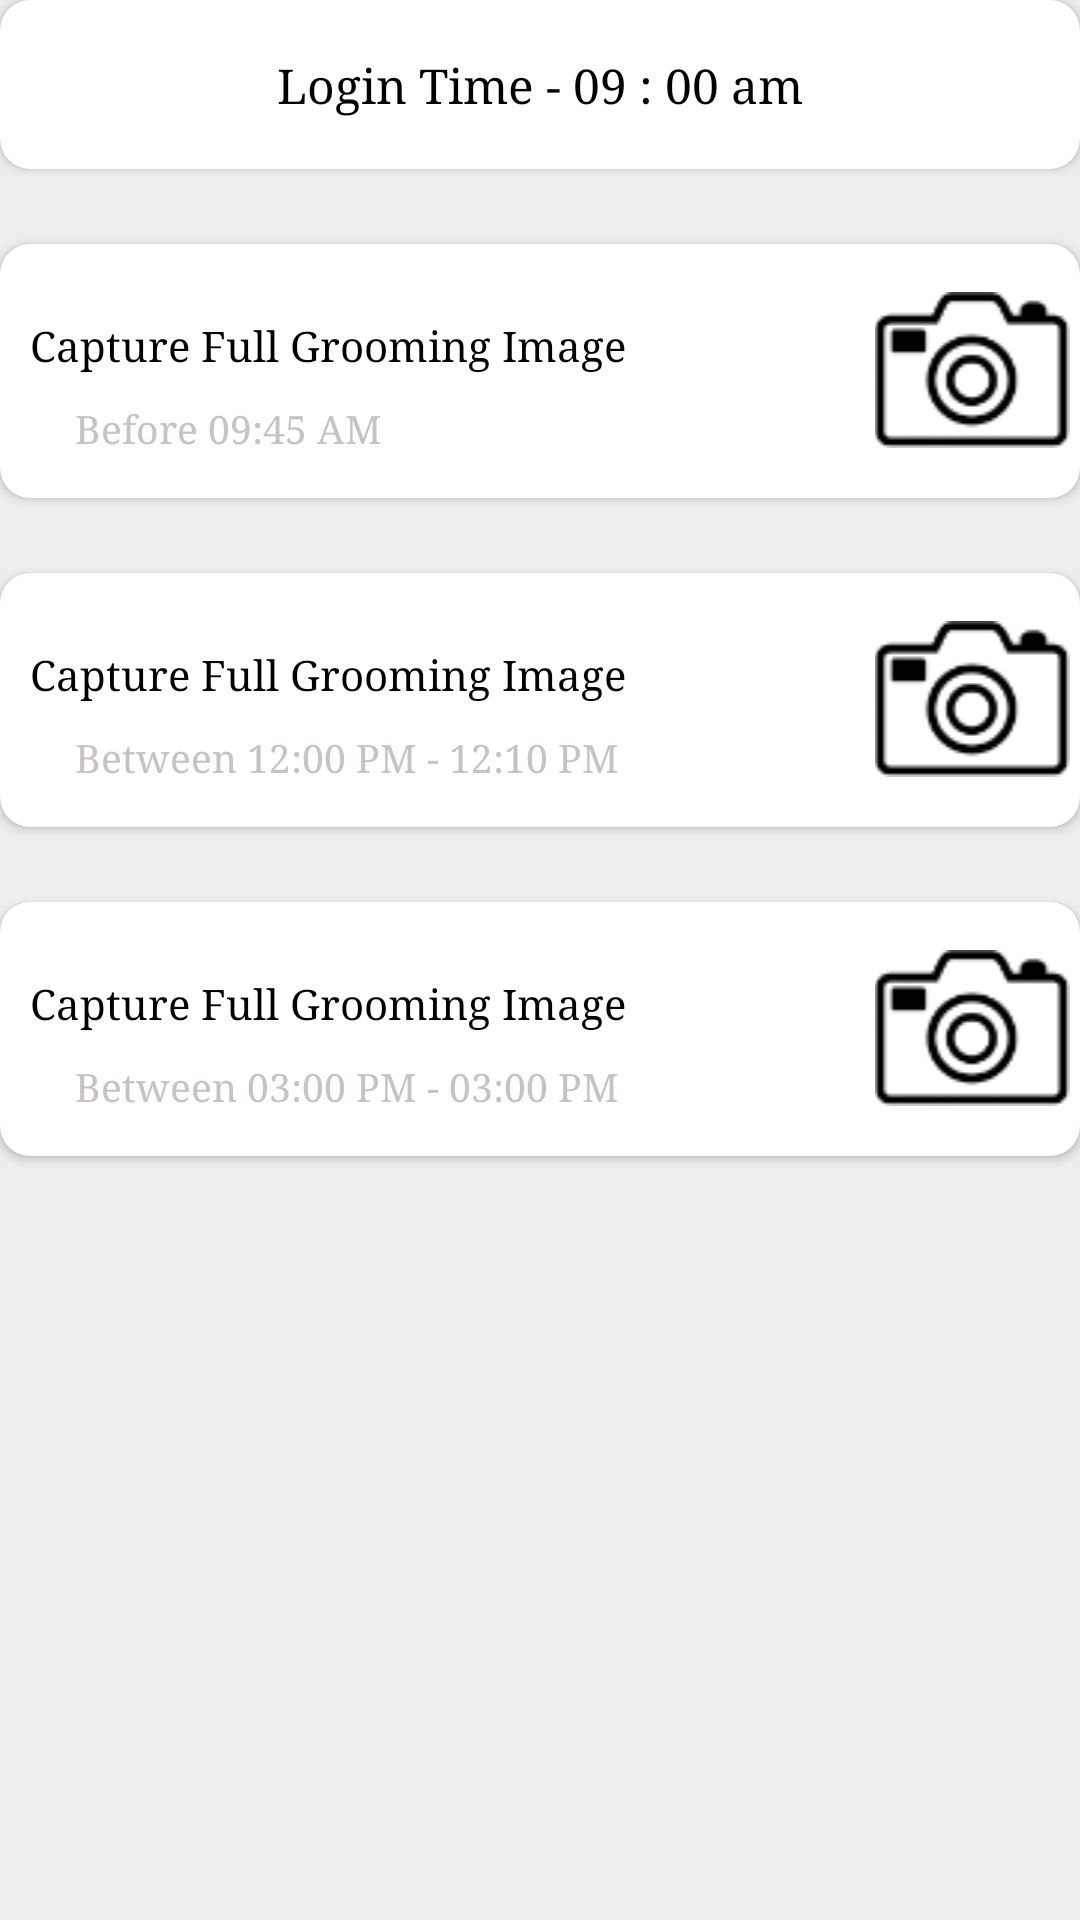

Icon click points for this 1080w x 1920h phone screenshot, format (x,y):
camera: (972,370), (972,699), (972,1028)
